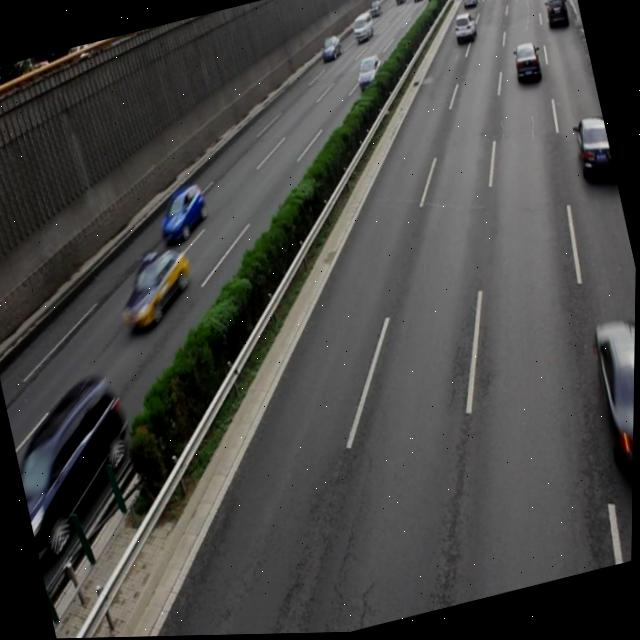car: (584, 313, 636, 491), (109, 240, 201, 335), (154, 182, 213, 247), (567, 112, 617, 188), (508, 41, 541, 88), (352, 53, 385, 91), (541, 0, 569, 33)
truck: (3, 372, 154, 563)
